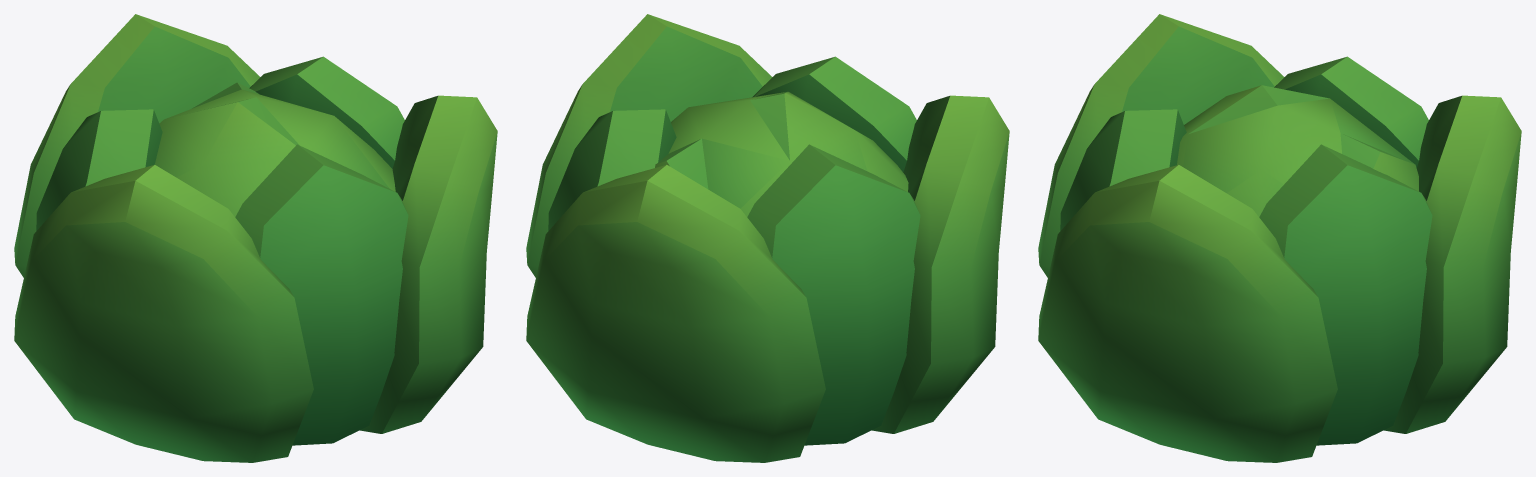
The model's file is lettuce.obj.
The picture shows the model from 3 angles, left to right: view 1: azimuth 30°, elevation 25°; view 2: azimuth 150°, elevation 25°; view 3: azimuth 270°, elevation 25°; orthographic projection.
Visible parts, largest first — view 1: lettuce; view 2: lettuce; view 3: lettuce.
Part boxes in pixels (left/top/right/bottom): lettuce: left=14, top=14, right=497, bottom=462; lettuce: left=526, top=14, right=1009, bottom=462; lettuce: left=1038, top=14, right=1521, bottom=462.
Size of the model in its own units: 0.6708 by 0.4775 by 0.6277.
1 material, 1 textured.
